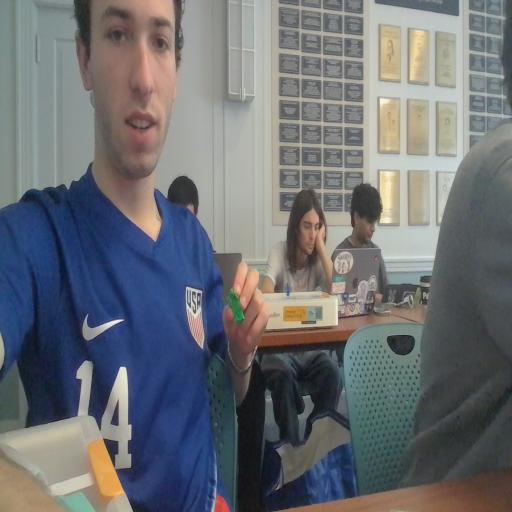green LEGO minifig: (226, 286, 246, 325)
